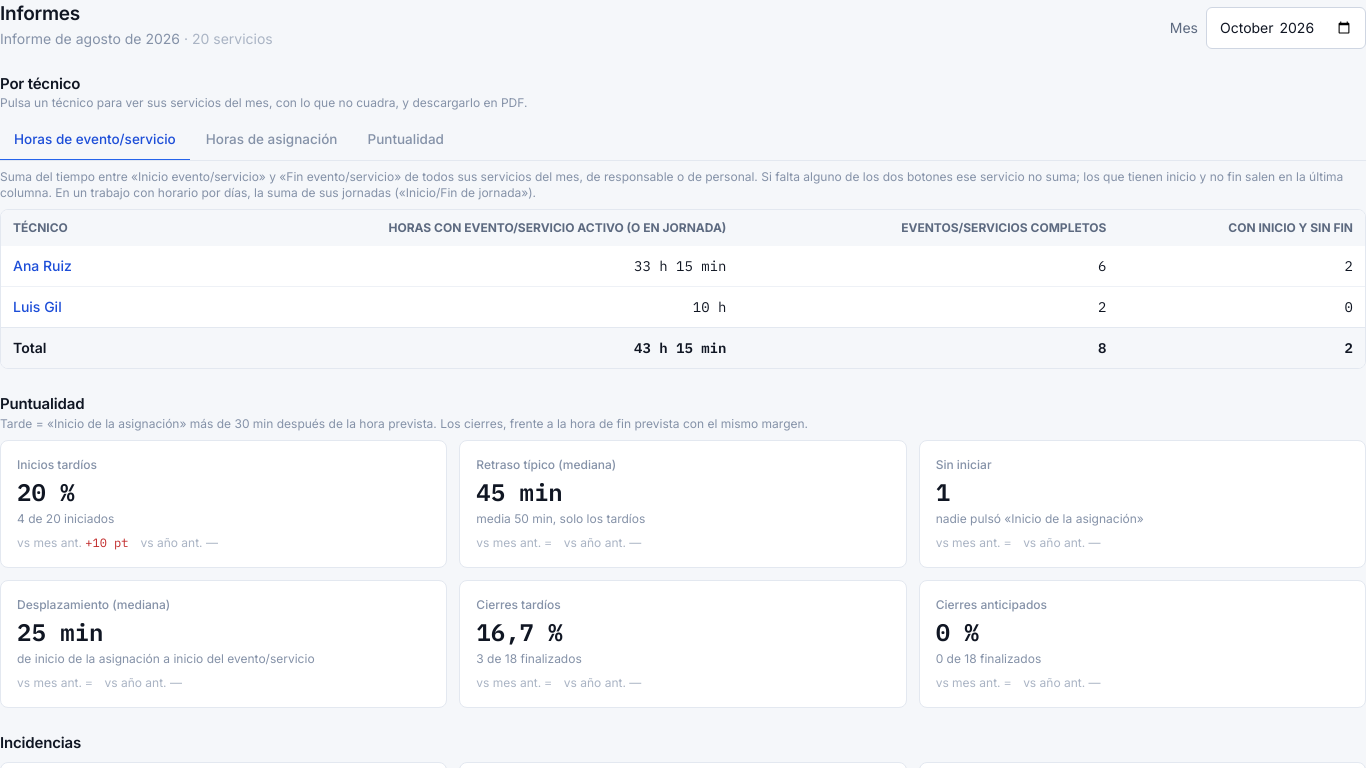
Test case: Informes · lo que se estaba mirando sobrevive a ir a una ficha › cambiar el mes o la pestaña lo apunta en la URL
Expected: the button "Ana Ruiz" is shown, [13,256,72,276]
Replace the text in the field named "Mes del informe" with "2026-05": (1286, 28) [1206,6,1365,48]
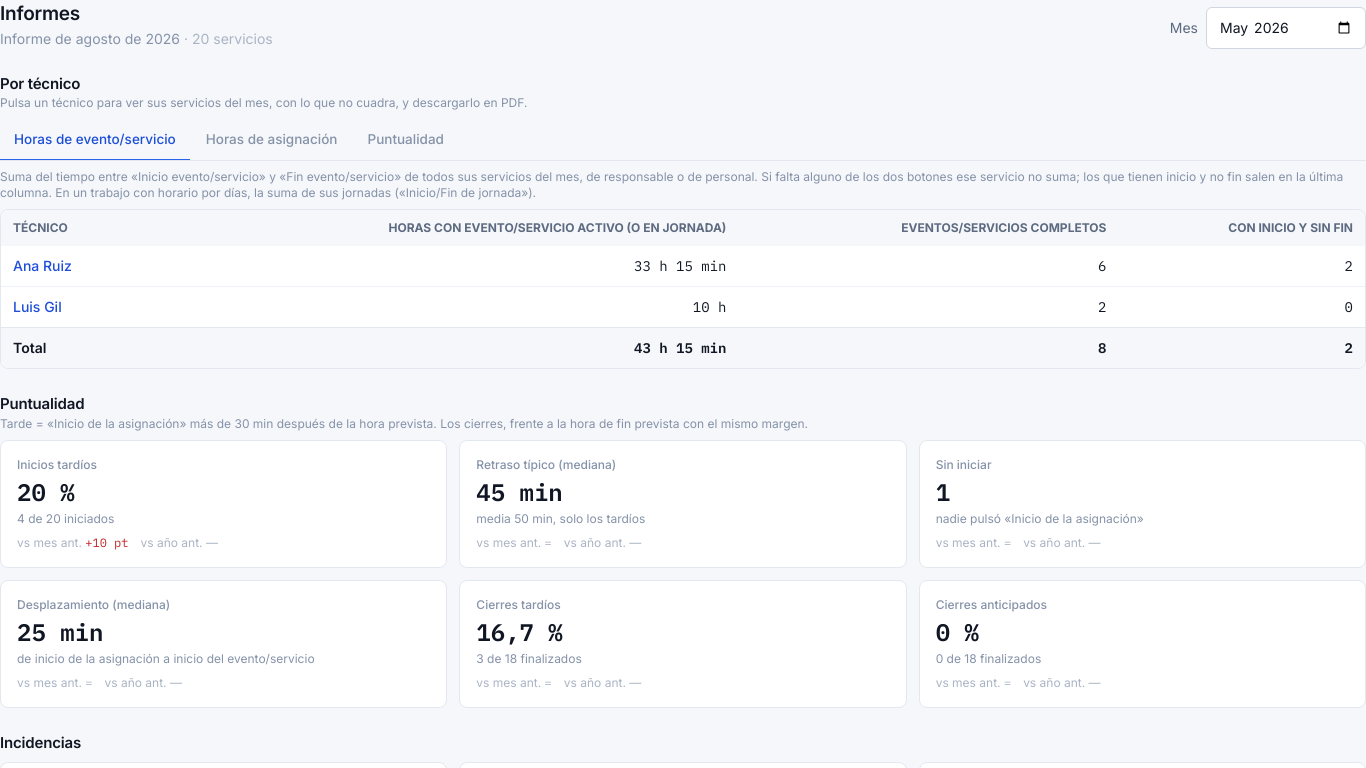
Click the tab "Horas de asignación": (272, 140) [192,119,352,161]
(page scrolled)
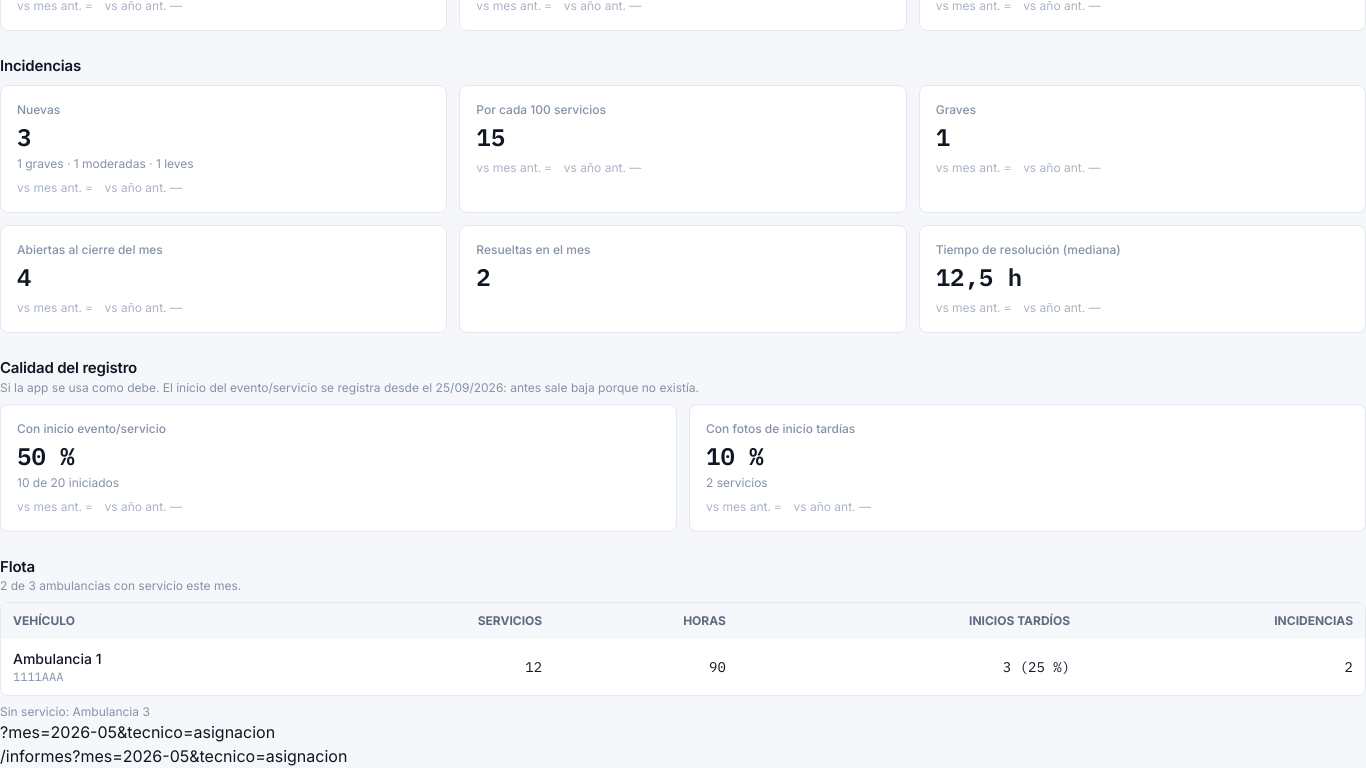
Expected: the text with test id "donde" reads "?mes=2026-05&tecnico=asignacion", [0,722,275,742]
